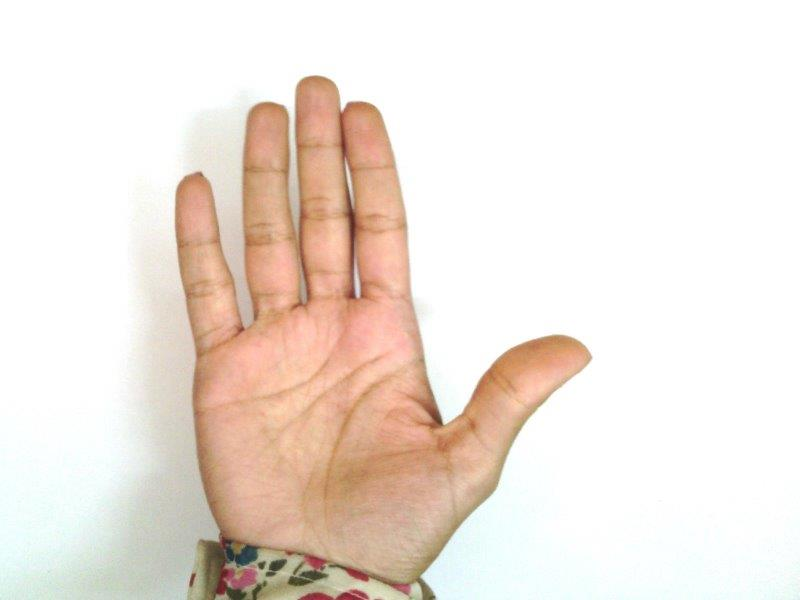hand: (175, 76, 589, 565)
